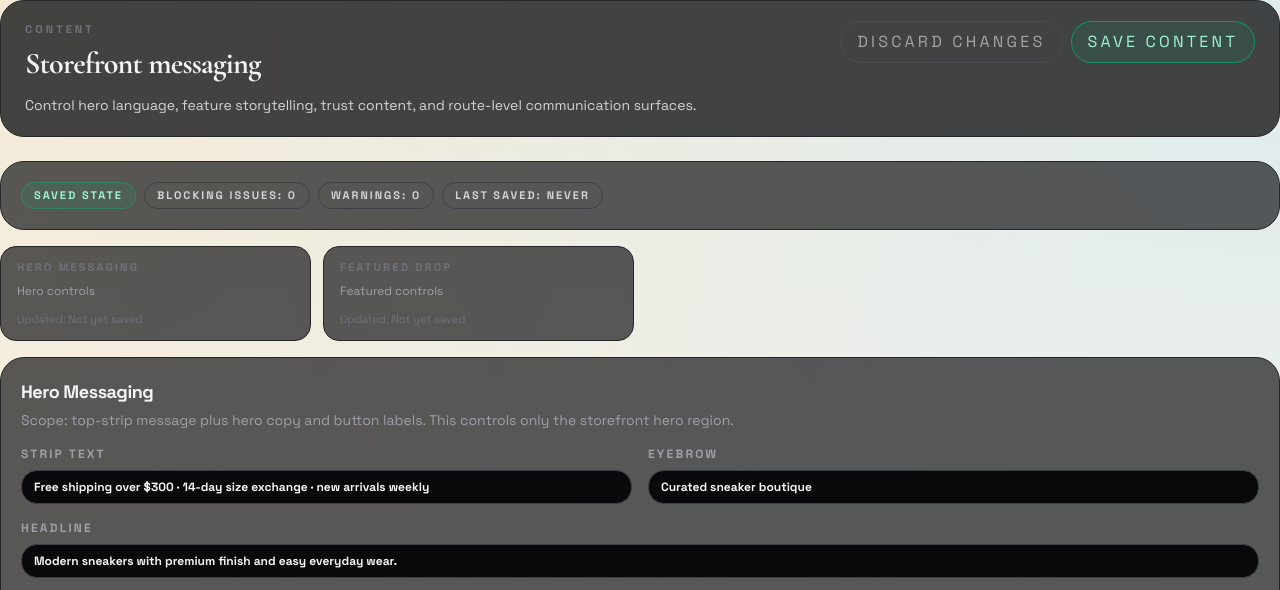
Scenario: AdminContentPage › blocks save when blocking validation issues exist
This screenshot has width=1280, height=590.
Replace the text in the field labelled "Strip text" with "Too short" at x=326, y=487, box [21,470,632,504]
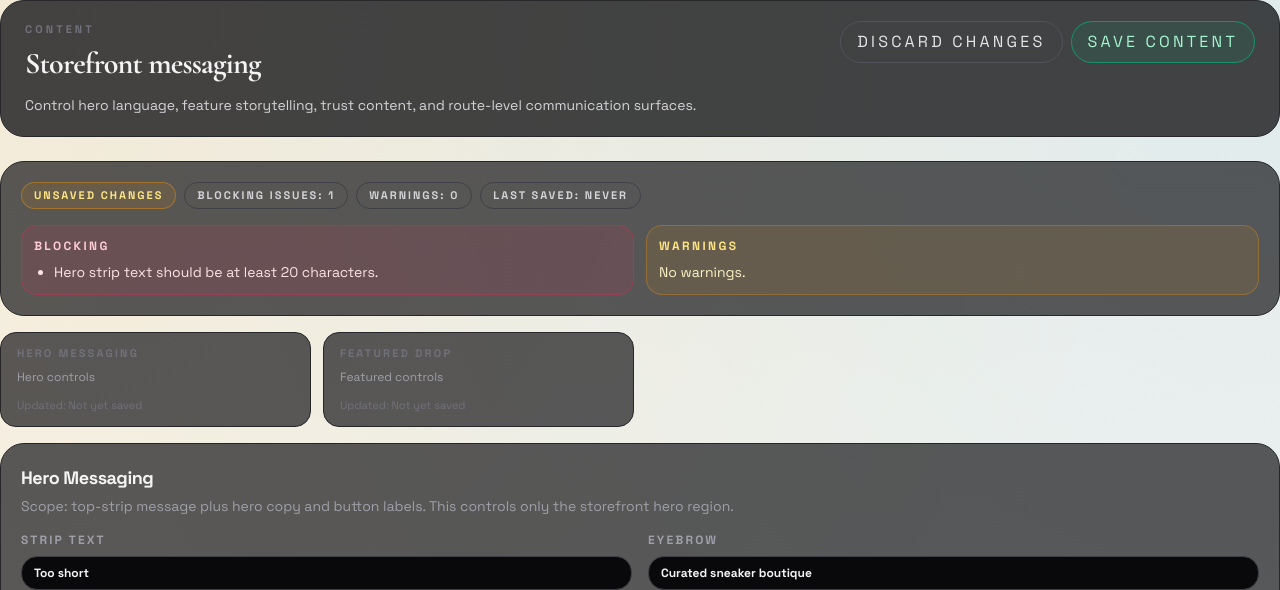
Click the button "Save content".
click(1163, 42)  # box [1070,21,1255,63]
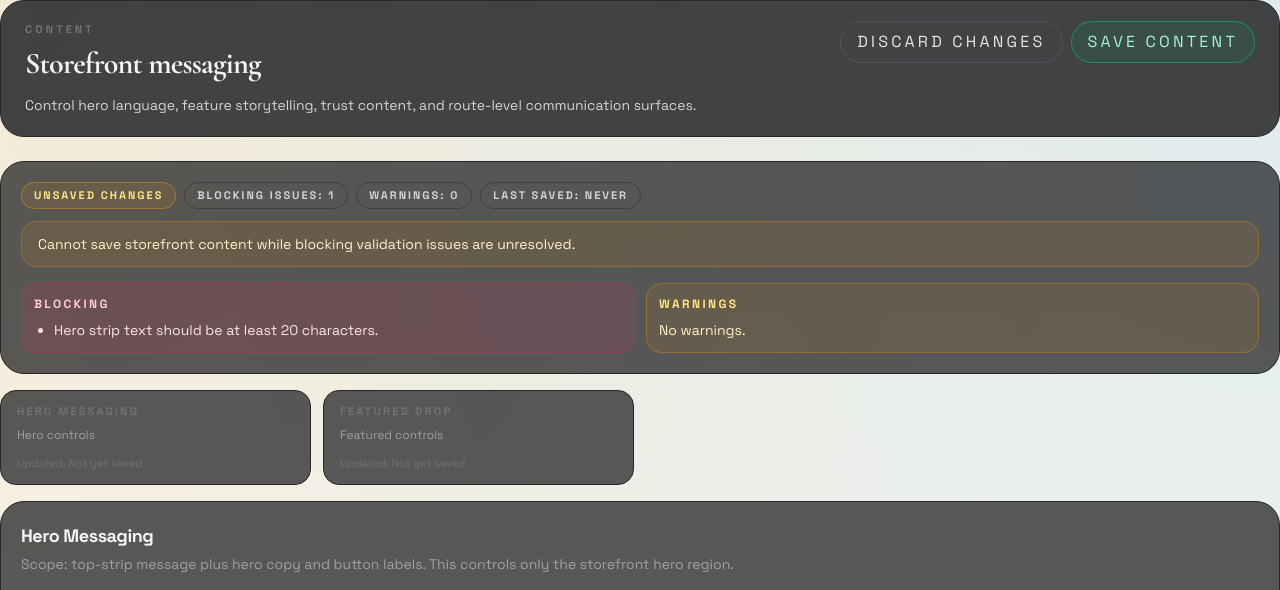
Now the text "Cannot save storefront content" is shown, box [38,235,575,253]
